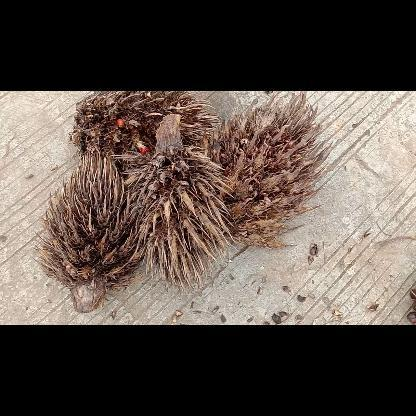Janjang kosong: (122, 114, 236, 294), (200, 90, 328, 248), (33, 150, 147, 312), (70, 91, 220, 171)
